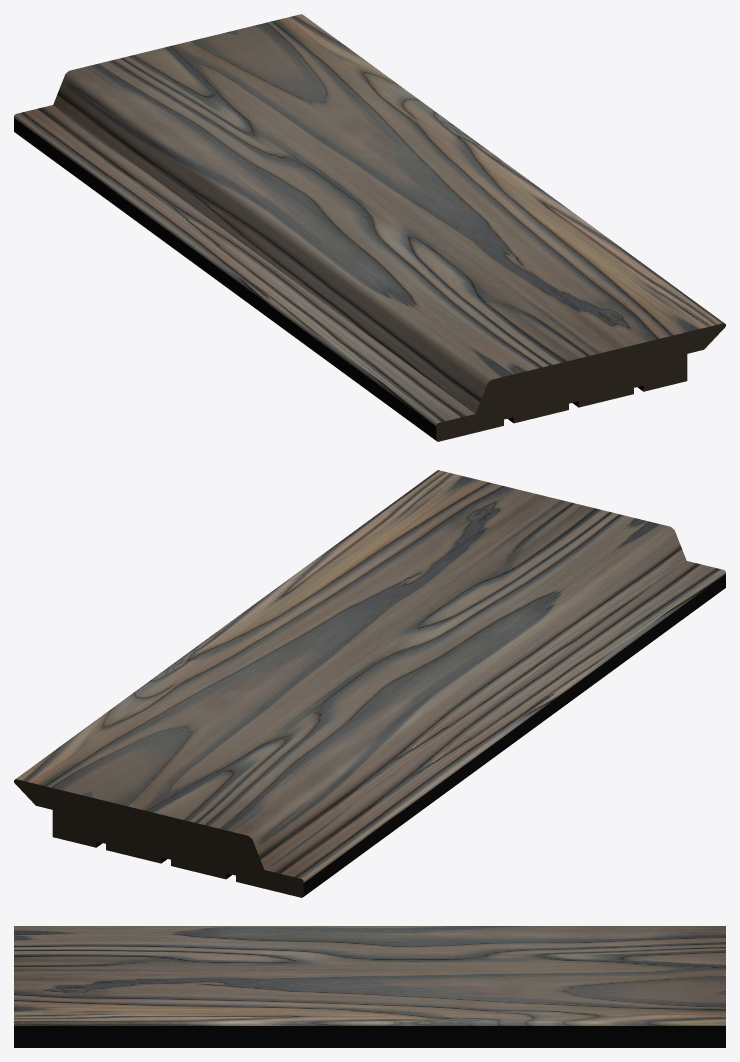
File: larch-facade-half-tongue-45-latte.glb
3 renders of one model, top to bottom at view 1: azimuth 30°, elevation 25°; view 2: azimuth 150°, elevation 25°; view 3: azimuth 270°, elevation 25°, orthographic. The views are drawn at different scales.
Visible parts, largest first — view 1: Pusė_Špunto_45; view 2: Pusė_Špunto_45; view 3: Pusė_Špunto_45.
Part boxes in pixels (<box>): Pusė_Špunto_45: <box>14,14,725,441</box>; Pusė_Špunto_45: <box>14,470,725,897</box>; Pusė_Špunto_45: <box>14,926,725,1047</box>.
Size of the model in its own units: 0.0723 by 0.0117 by 0.1826.
Materials: 3 (1 with a texture image).
